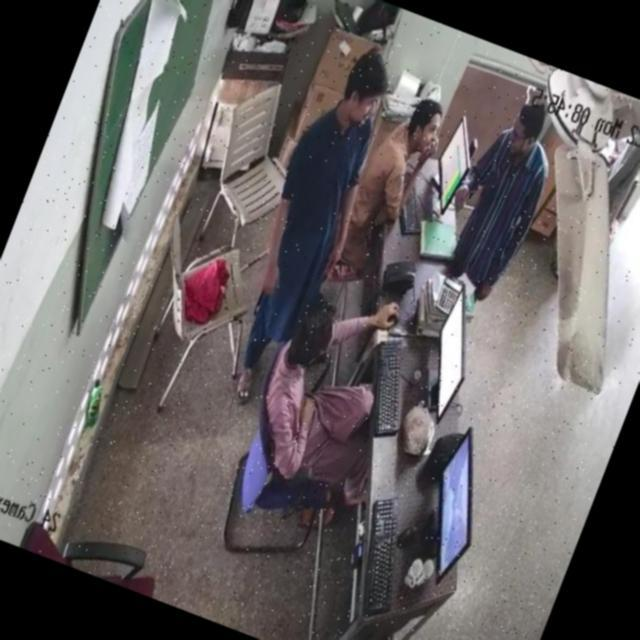person: (215, 52, 396, 407), (231, 294, 405, 503), (442, 97, 562, 280), (332, 80, 452, 258)
